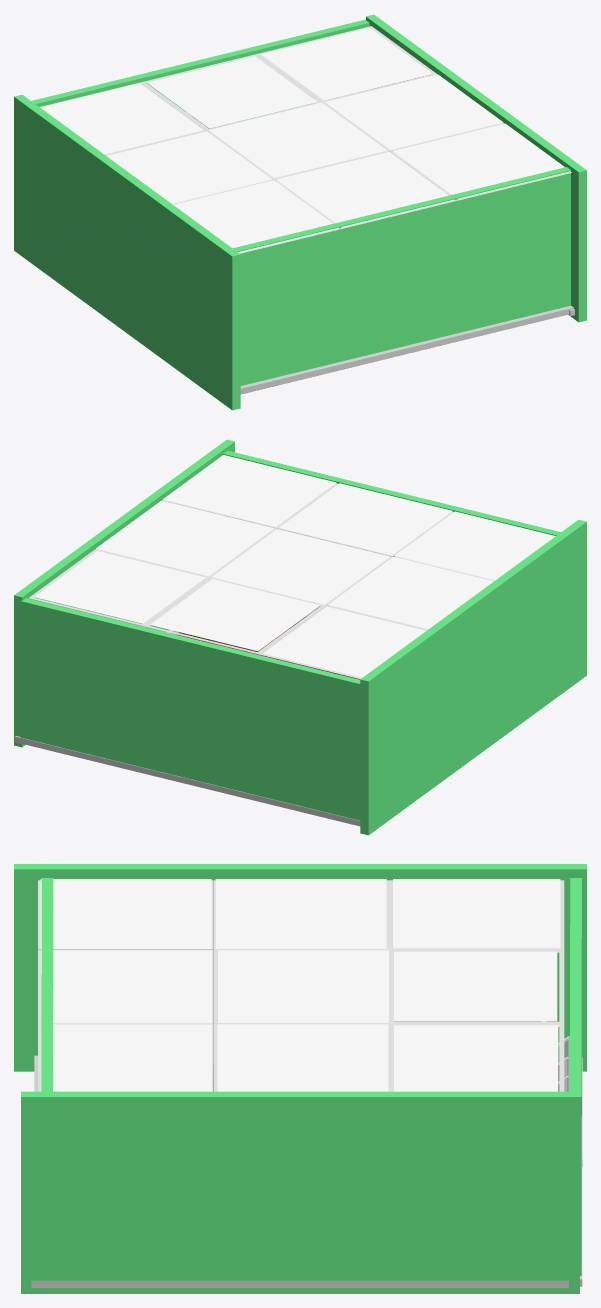
Rendered from Aula.glb.
3 renders of one model, top to bottom at view 1: azimuth 30°, elevation 25°; view 2: azimuth 150°, elevation 25°; view 3: azimuth 270°, elevation 25°, orthographic. The views are drawn at different scales.
Visible parts, largest first — view 1: Cubo.001, Cube.004, Cube, Cube.002, Cube.006, Cube.005; view 2: Cubo.001, Cube.006, Cube, Cube.002, Cube.007, Cube.004; view 3: Cubo.001, Cube.002, Cube, Cube.003, Cube.006, Cube.004.
Part boxes in pixels (bbox=[...]): Cubo.001: bbox=[40, 26, 571, 253]; Cube.004: bbox=[233, 167, 570, 385]; Cube: bbox=[14, 94, 240, 410]; Cube.002: bbox=[366, 14, 586, 322]; Cube.006: bbox=[31, 19, 369, 128]; Cube.005: bbox=[240, 306, 573, 394]; Cubo.001: bbox=[28, 455, 555, 679]; Cube.006: bbox=[20, 598, 360, 820]; Cube: bbox=[360, 519, 586, 835]; Cube.002: bbox=[14, 439, 234, 747]; Cube.007: bbox=[15, 736, 360, 826]; Cube.004: bbox=[223, 450, 560, 611]; Cubo.001: bbox=[38, 879, 564, 1091]; Cube.002: bbox=[21, 1091, 579, 1293]; Cube: bbox=[14, 864, 586, 1071]; Cube.003: bbox=[31, 1280, 568, 1287]; Cube.006: bbox=[569, 878, 581, 1275]; Cube.004: bbox=[41, 878, 53, 1091].
Bounding box in the file's own units: 10.32 × 4.25 × 10.92.
37 materials, 4 textured.
